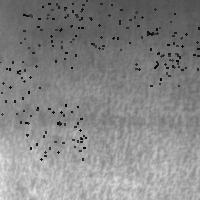pitted_surface: (10, 7, 198, 198), (120, 8, 177, 68), (25, 104, 85, 158), (20, 14, 79, 67), (148, 27, 200, 85), (71, 0, 129, 48), (0, 61, 39, 121), (28, 0, 86, 29)
